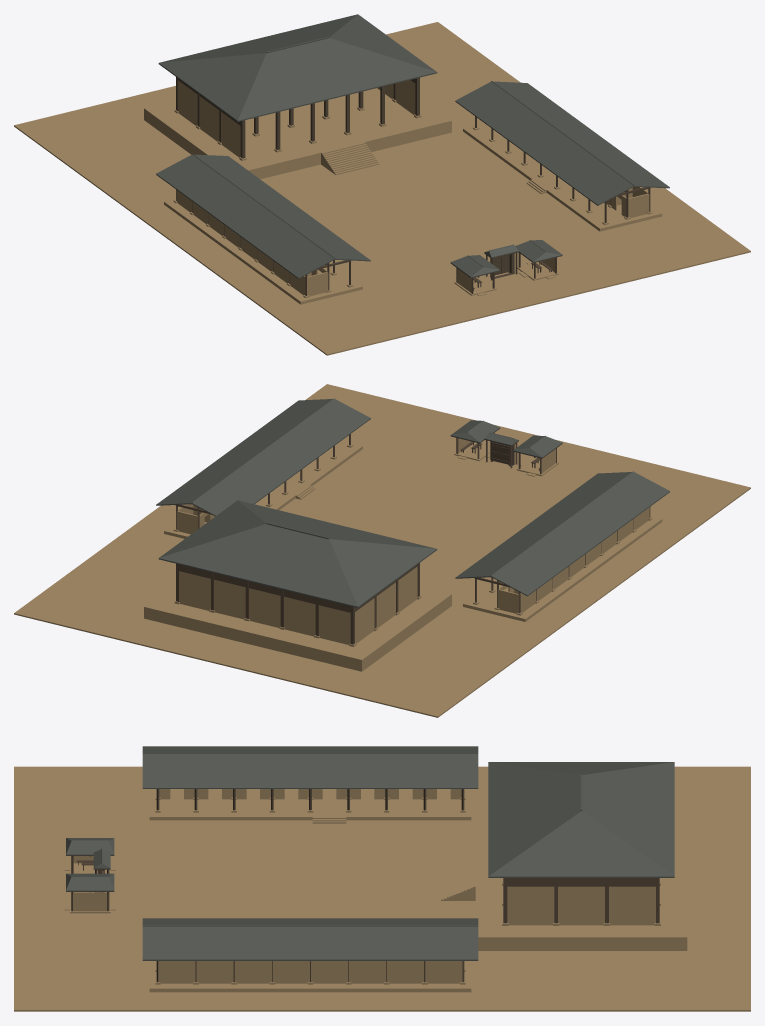
The model's file is palace-admission-court-closed-LOD2.glb.
The picture shows the model from 3 angles, top to bottom: view 1: azimuth 30°, elevation 25°; view 2: azimuth 150°, elevation 25°; view 3: azimuth 270°, elevation 25°; orthographic projection. The views are drawn at different scales.
Visible parts, largest first — view 1: new_court_support_C, hall__deyang-A-static_tile, hall__deyang-A-static_earth, west_gallery__sidehall-A-static_tile, east_gallery__sidehall-A-static_tile, east_gallery__sidehall-A-static_earth, west_gallery__sidehall-A-static_earth, guard__guard-slice-ground-earth, hall__deyang-A-static_timber, guard__guard-slice-west-tile, guard__guard-slice-east-tile, guard__guard-slice-west-earth; view 2: new_court_support_C, hall__deyang-A-static_tile, hall__deyang-A-static_earth, west_gallery__sidehall-A-static_tile, east_gallery__sidehall-A-static_tile, west_gallery__sidehall-A-static_earth, guard__guard-slice-ground-earth, east_gallery__sidehall-A-static_earth, hall__deyang-A-static_timber, guard__guard-slice-west-tile, guard__guard-slice-east-tile, guard__guard-slice-west-earth; view 3: new_court_support_C, hall__deyang-A-static_tile, hall__deyang-A-static_earth, west_gallery__sidehall-A-static_tile, east_gallery__sidehall-A-static_tile, east_gallery__sidehall-A-static_earth, west_gallery__sidehall-A-static_earth, guard__guard-slice-ground-earth, hall__deyang-A-static_timber, guard__guard-slice-east-tile, guard__guard-slice-east-earth, guard__guard-slice-west-tile (+1 smaller).
Boxes of the visible parts, <box> form: new_court_support_C: <box>14,22,750,355</box>; hall__deyang-A-static_tile: <box>158,14,437,121</box>; hall__deyang-A-static_earth: <box>144,80,451,179</box>; west_gallery__sidehall-A-static_tile: <box>156,153,370,278</box>; east_gallery__sidehall-A-static_tile: <box>455,81,669,205</box>; east_gallery__sidehall-A-static_earth: <box>463,123,662,231</box>; west_gallery__sidehall-A-static_earth: <box>164,190,362,304</box>; guard__guard-slice-ground-earth: <box>419,252,593,312</box>; hall__deyang-A-static_timber: <box>176,77,419,158</box>; guard__guard-slice-west-tile: <box>450,255,500,277</box>; guard__guard-slice-east-tile: <box>515,240,562,262</box>; guard__guard-slice-west-earth: <box>454,268,496,296</box>; new_court_support_C: <box>14,384,750,717</box>; hall__deyang-A-static_tile: <box>158,500,437,607</box>; hall__deyang-A-static_earth: <box>144,566,451,671</box>; west_gallery__sidehall-A-static_tile: <box>455,471,669,596</box>; east_gallery__sidehall-A-static_tile: <box>156,398,370,516</box>; west_gallery__sidehall-A-static_earth: <box>463,507,662,621</box>; guard__guard-slice-ground-earth: <box>419,432,593,492</box>; east_gallery__sidehall-A-static_earth: <box>164,441,362,538</box>; hall__deyang-A-static_timber: <box>176,563,419,644</box>; guard__guard-slice-west-tile: <box>513,435,562,457</box>; guard__guard-slice-east-tile: <box>450,420,500,442</box>; guard__guard-slice-west-earth: <box>516,449,558,476</box>; new_court_support_C: <box>14,766,750,1011</box>; hall__deyang-A-static_tile: <box>488,762,674,877</box>; hall__deyang-A-static_earth: <box>441,812,687,950</box>; west_gallery__sidehall-A-static_tile: <box>142,746,478,788</box>; east_gallery__sidehall-A-static_tile: <box>142,918,478,960</box>; east_gallery__sidehall-A-static_earth: <box>149,961,471,992</box>; west_gallery__sidehall-A-static_earth: <box>149,789,471,823</box>; guard__guard-slice-ground-earth: <box>31,852,149,924</box>; hall__deyang-A-static_timber: <box>503,878,659,923</box>; guard__guard-slice-east-tile: <box>66,873,114,891</box>; guard__guard-slice-east-earth: <box>64,892,115,913</box>; guard__guard-slice-west-tile: <box>66,838,114,855</box>.
Size of the model in its own units: 68 by 12.74 by 87.
